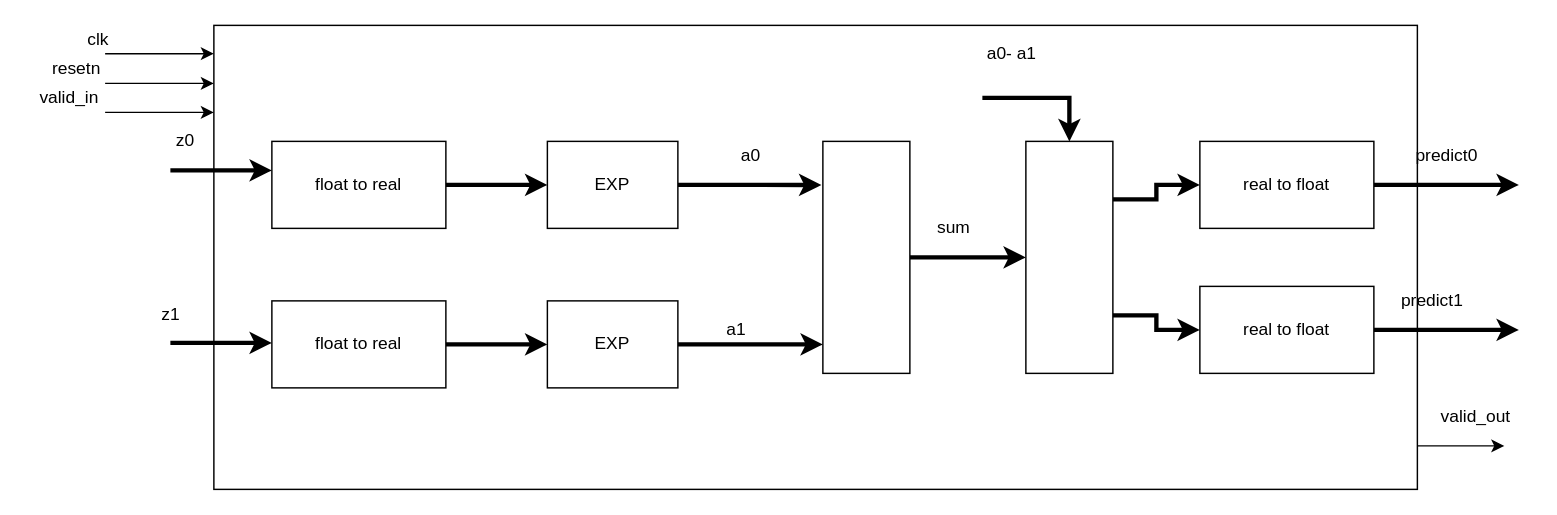
The diagram is 1557 pixels wide and 515 high, and some of its shapes have lost their labels. The box of each missing label's shape, as (x1, y1, x2, y2) in pixels:
adder: (821, 140, 910, 373)
divider: (1024, 140, 1113, 373)
